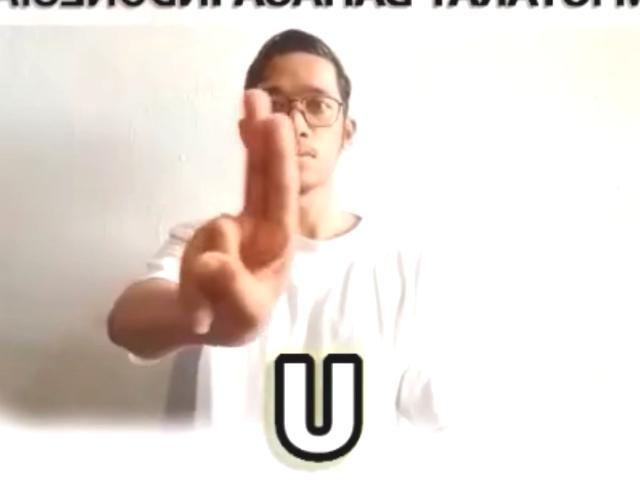U: (173, 86, 304, 356)
